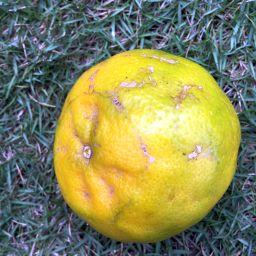Unripe: (53, 51, 238, 244)
